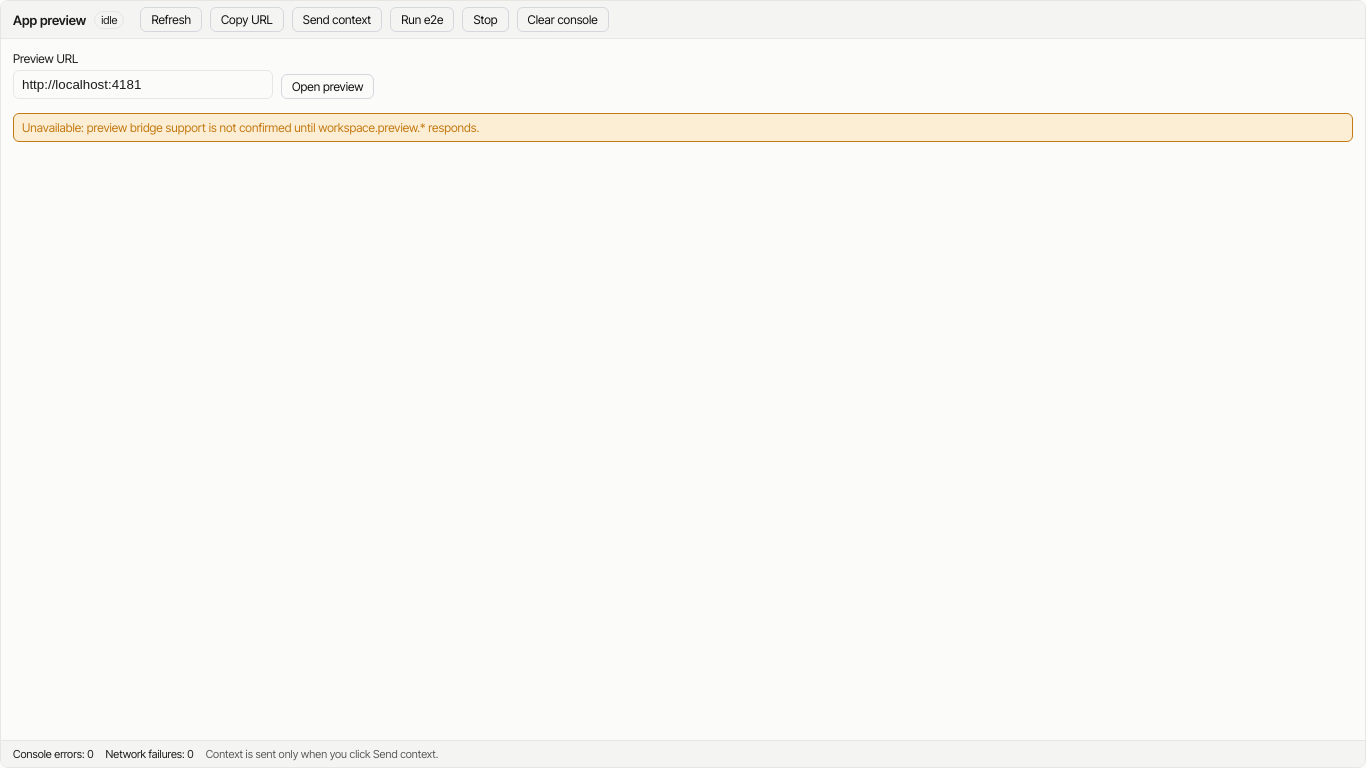
Scenario: <PreviewPanel/> › rejects a non-loopback URL in the open form
In the field labelled "Preview URL": (143, 84) [13,70,273,99], type "https://example.com"
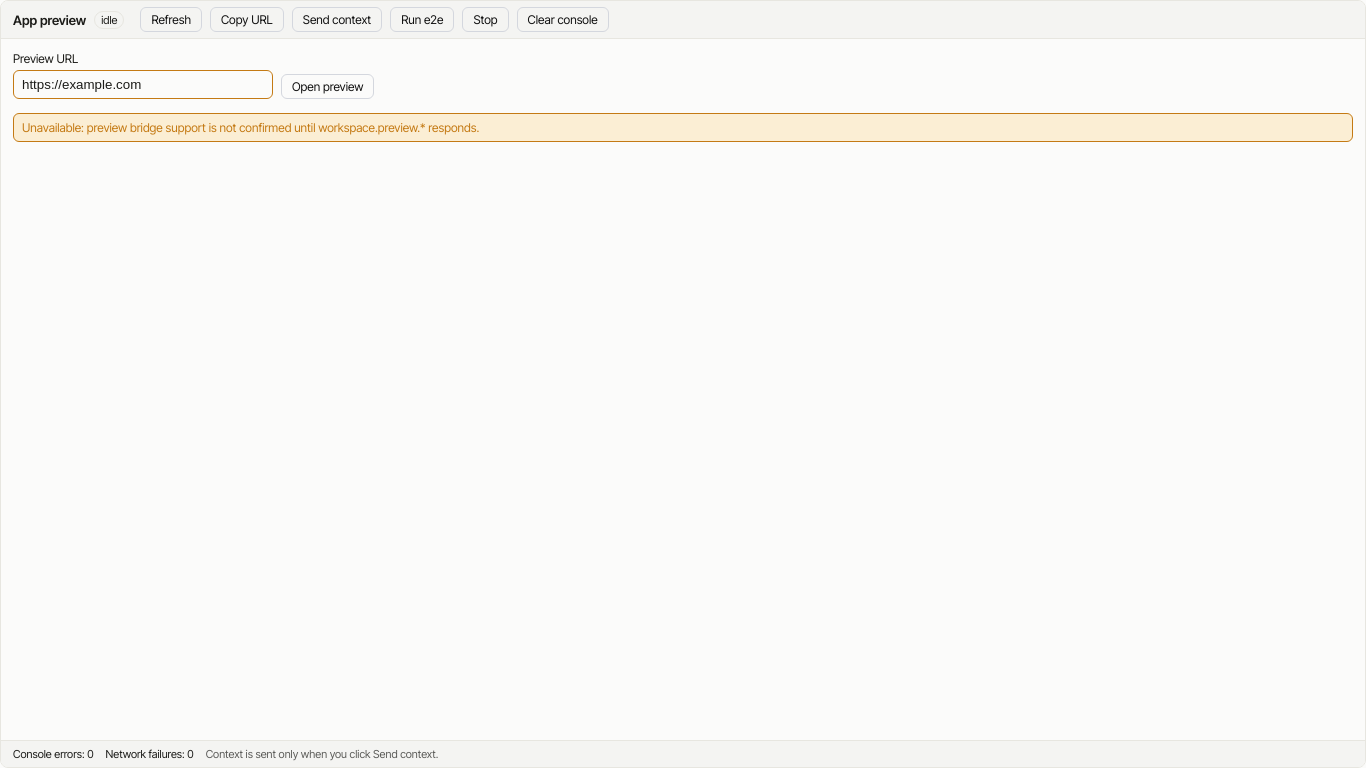
Submit the form with test id "preview-open-form", box [13,51,374,99]
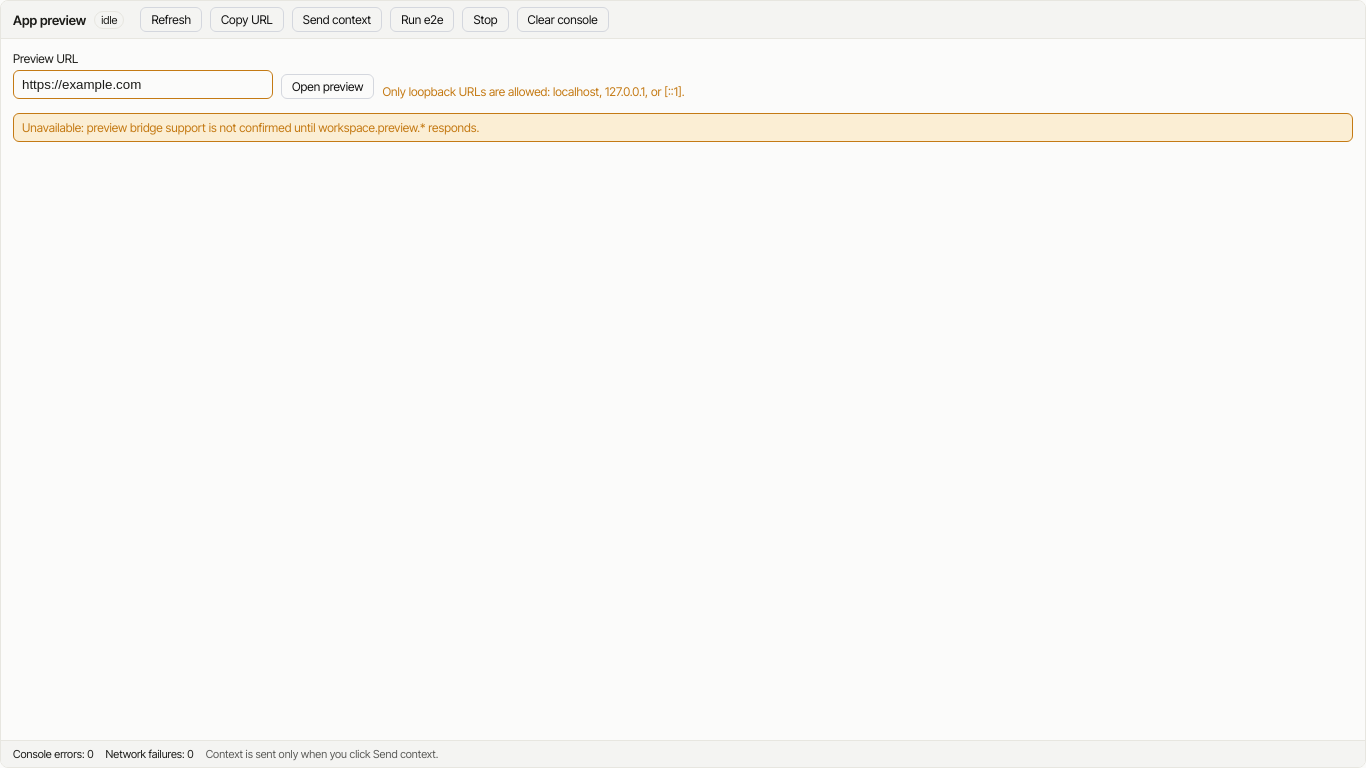
Now the message shows "Only loopback URLs", box [382,84,685,99]
